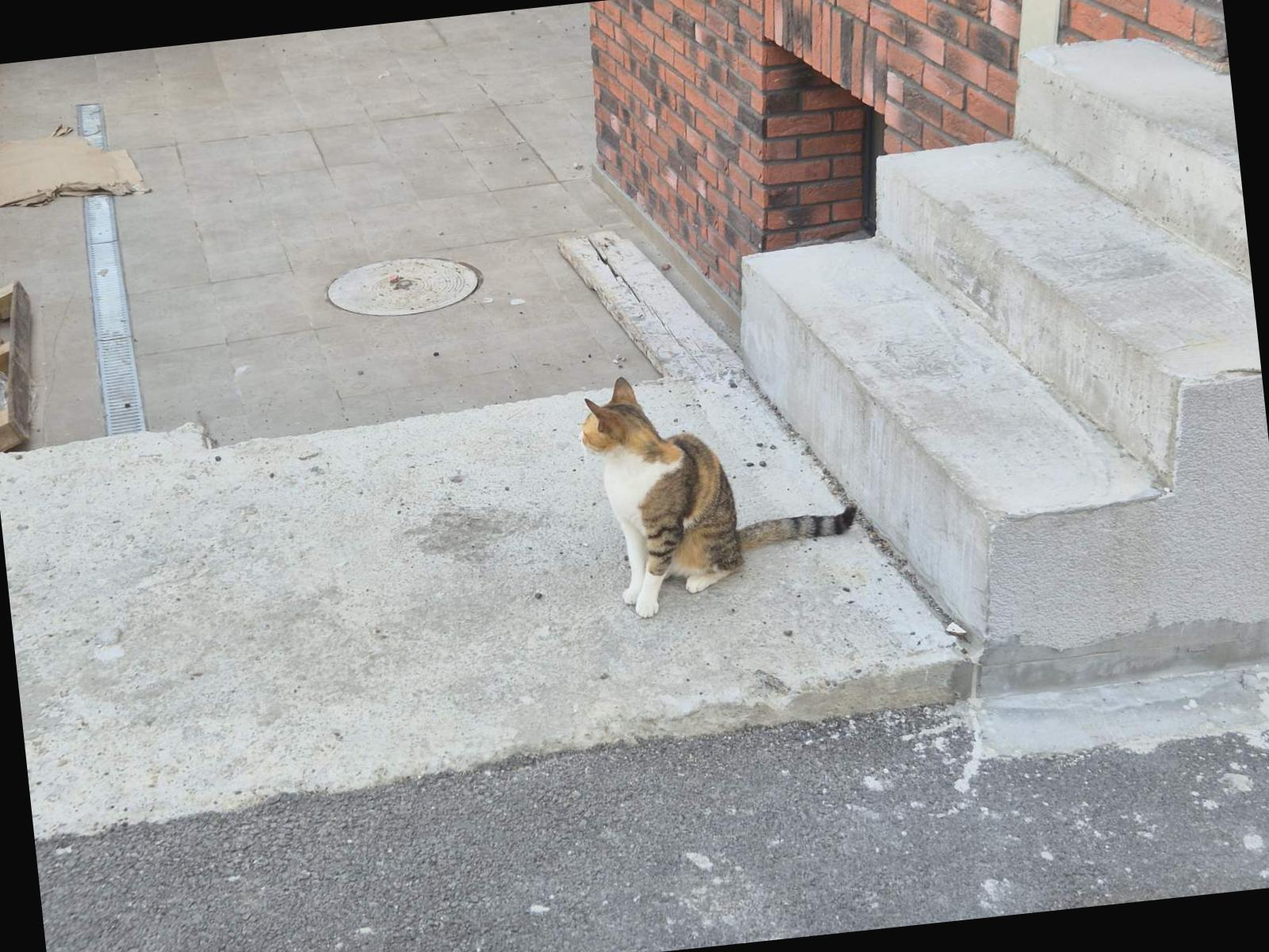macka: (573, 353, 865, 624)
